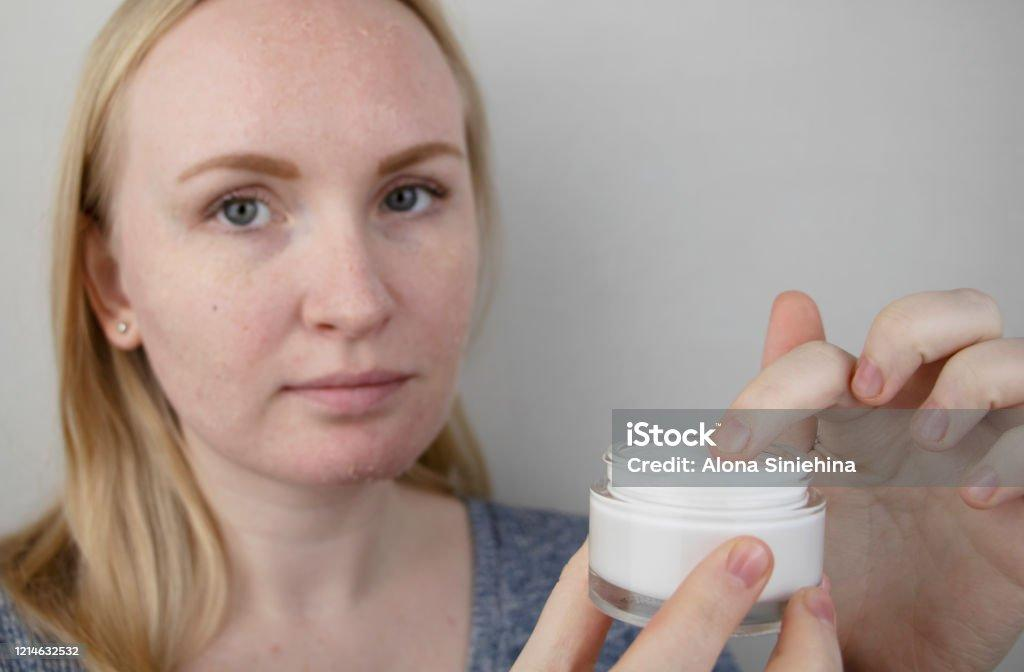Dry-Skin: (310, 71, 473, 144), (155, 243, 271, 326), (388, 232, 482, 333), (294, 433, 438, 489), (339, 8, 446, 66), (197, 26, 339, 67), (333, 261, 403, 342)
